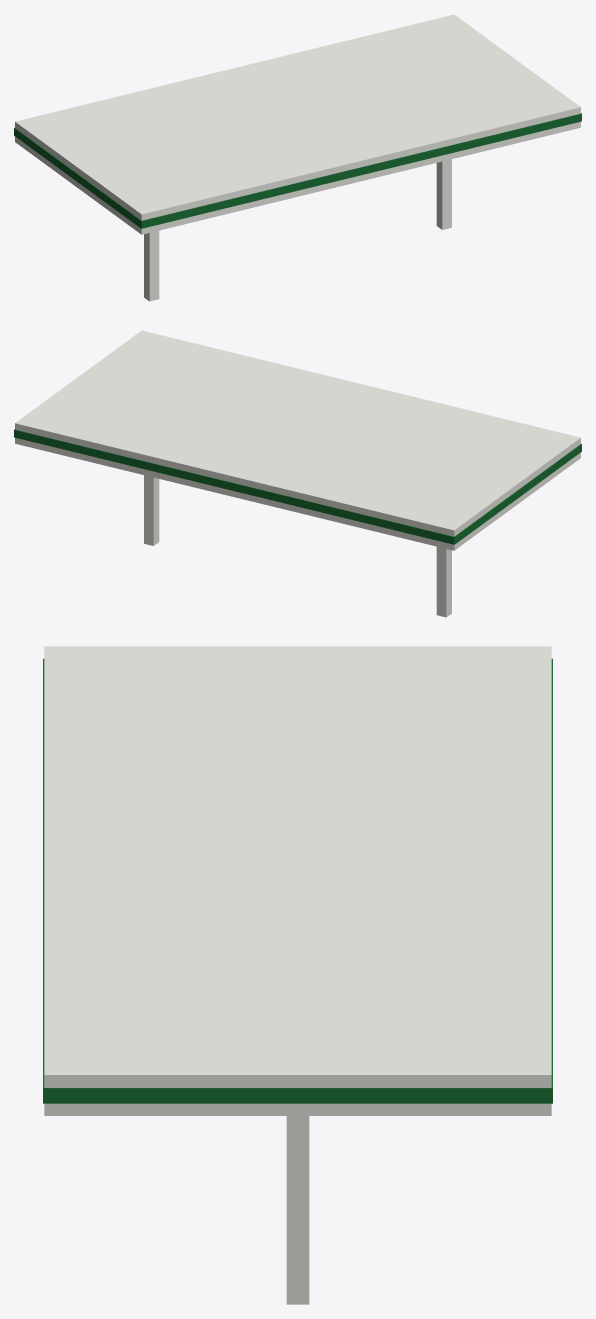
The model's file is energy.plant.forecourt_canopy.glb.
3 views of the same model, one above another, from view 1: azimuth 30°, elevation 25°; view 2: azimuth 150°, elevation 25°; view 3: azimuth 270°, elevation 25° (orthographic). The views are drawn at different scales.
Parts seen in each view (by area): view 1: main__paint_white, main__plastic_green; view 2: main__paint_white, main__plastic_green; view 3: main__paint_white, main__plastic_green.
Boxes of the visible parts, x1,y1,x2,y2 form: main__paint_white: [15, 14, 580, 301]; main__plastic_green: [14, 113, 581, 228]; main__paint_white: [15, 330, 580, 617]; main__plastic_green: [14, 429, 581, 544]; main__paint_white: [44, 646, 551, 1304]; main__plastic_green: [43, 658, 552, 1103].
Size of the model in its own units: 18.05 by 5.8 by 9.05.
